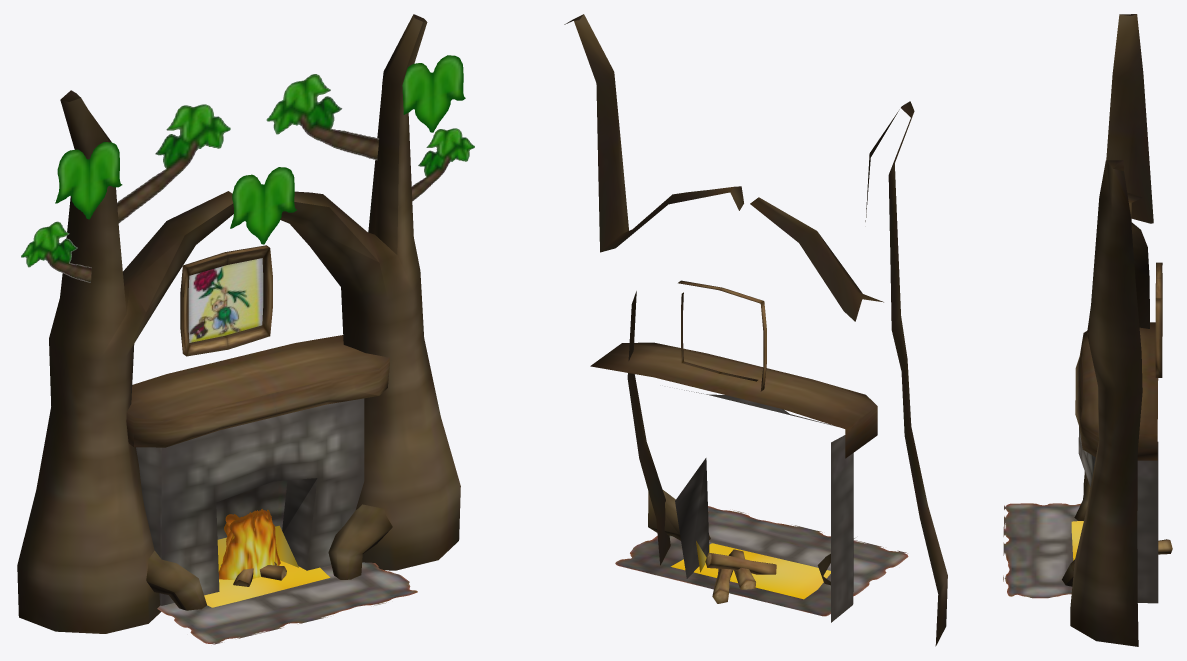
File: tt_m_prp_int_fireplace_bugRoom.glb
3 views of the same model, side by side, from view 1: azimuth 30°, elevation 25°; view 2: azimuth 150°, elevation 25°; view 3: azimuth 270°, elevation 25° (orthographic). The views are drawn at different scales.
Visible parts, largest first — view 1: fireplaceBugRoom, fire1, fireGlow1; view 2: fireplaceBugRoom, fireGlow1; view 3: fireplaceBugRoom, fireGlow1.
Boxes of the visible parts, x1,y1,x2,y2 form: fireplaceBugRoom: (17,14,474,644); fire1: (218,510,279,580); fireGlow1: (204,525,330,607); fireplaceBugRoom: (564,14,947,646); fireGlow1: (671,541,830,599); fireplaceBugRoom: (1003,14,1172,646); fireGlow1: (1071,521,1083,560).
Size of the model in its own units: 11.65 by 12.54 by 4.1.
4 materials, 4 textured.
